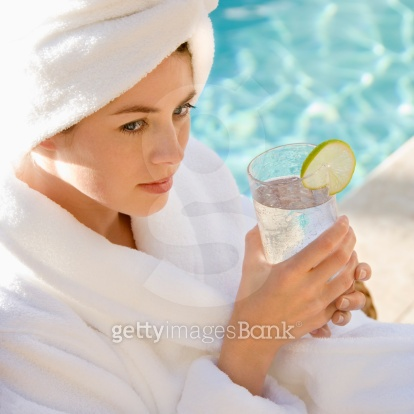glass of water: (242, 143, 349, 307)
